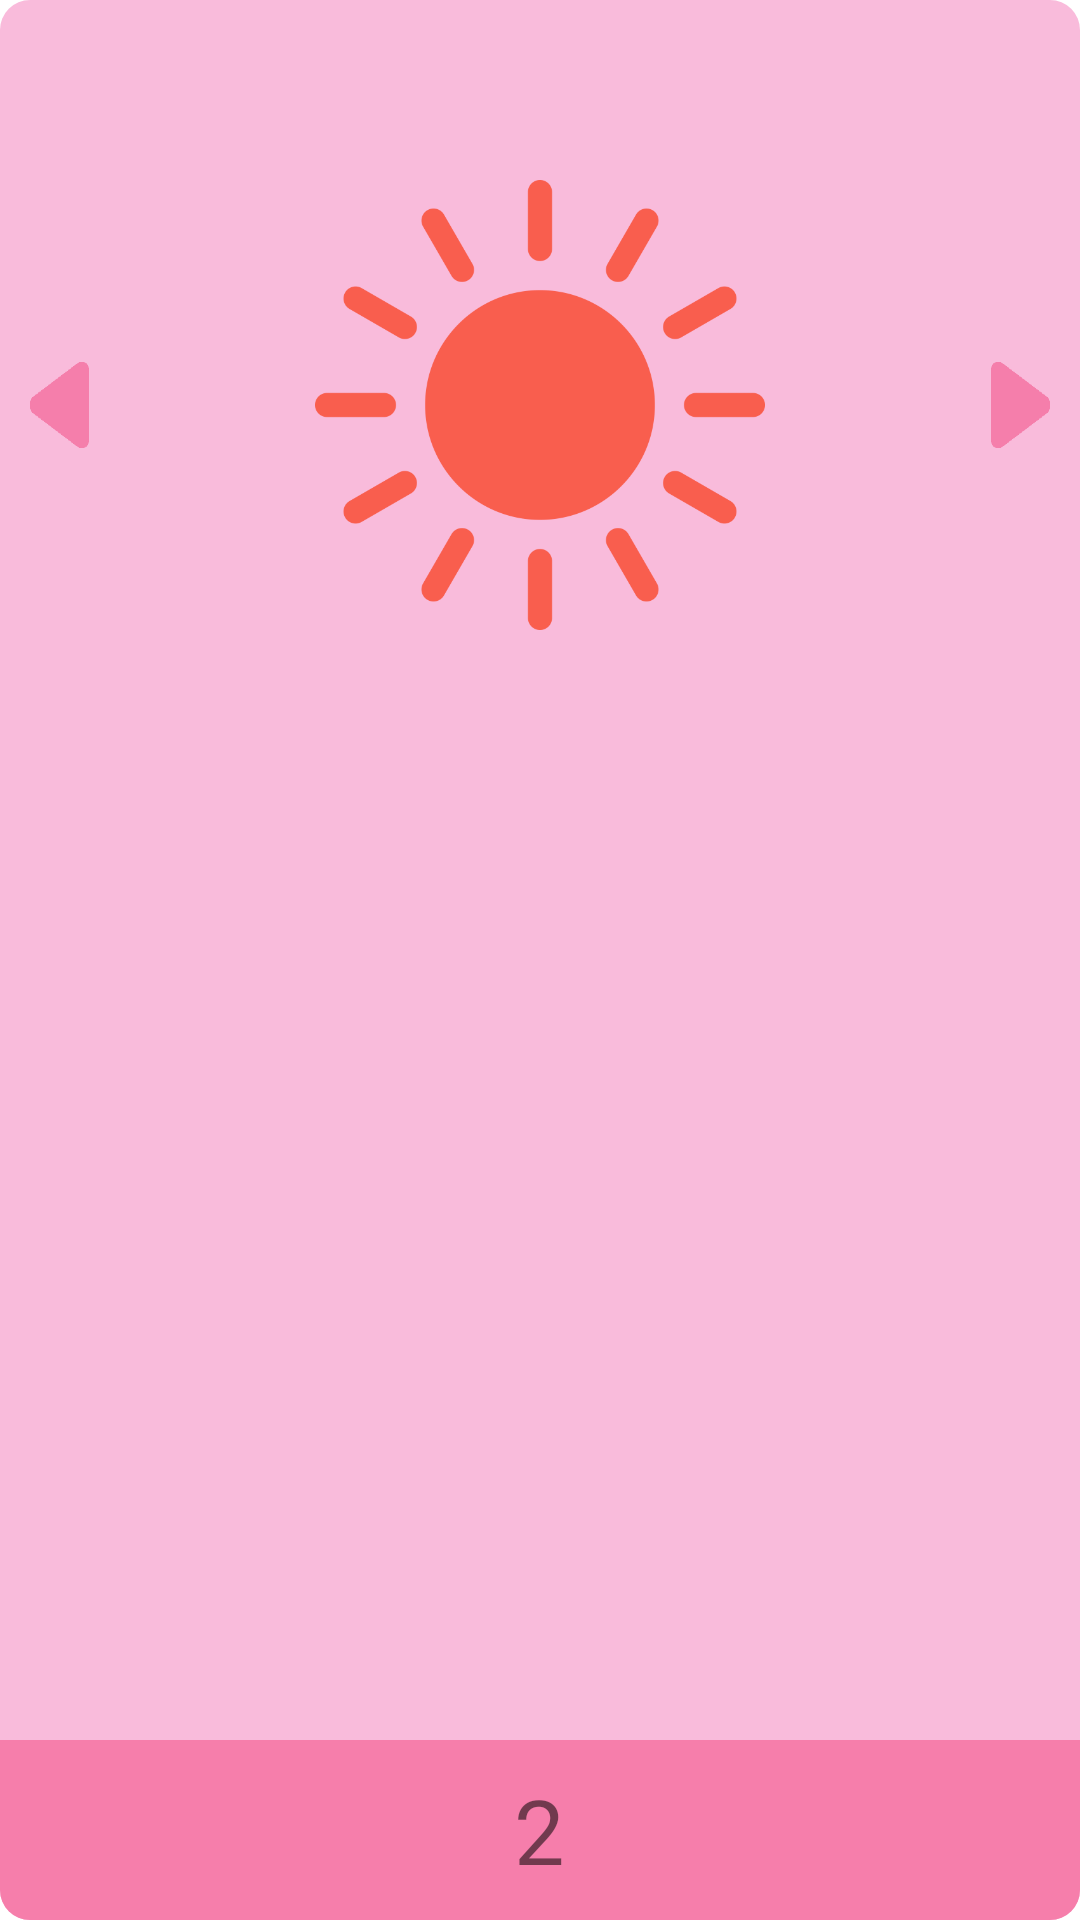

Screen size 1080px×1920px. Icon name, then its center in pixels as (x=x, y=y):
calender arrow left girl: (x=59, y=405)
calender arrow right girl: (x=1020, y=405)
